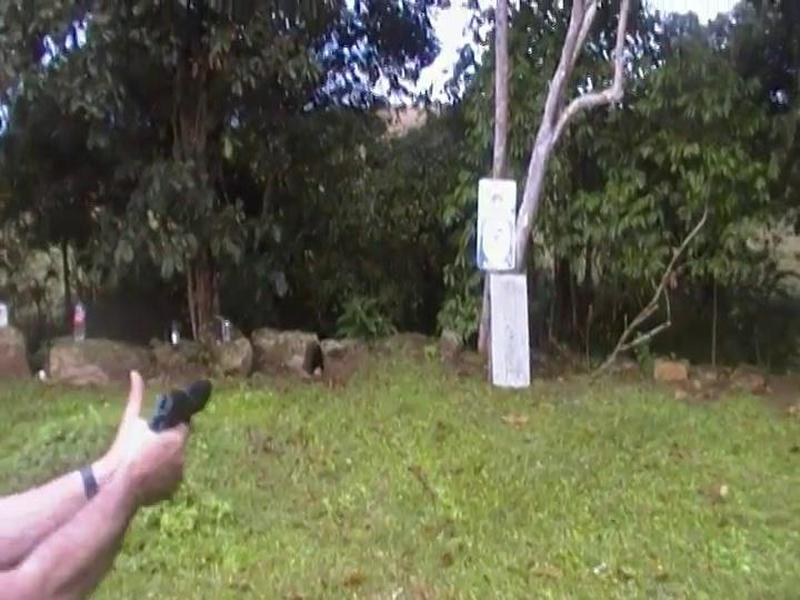Pistola: (145, 378, 243, 458)
